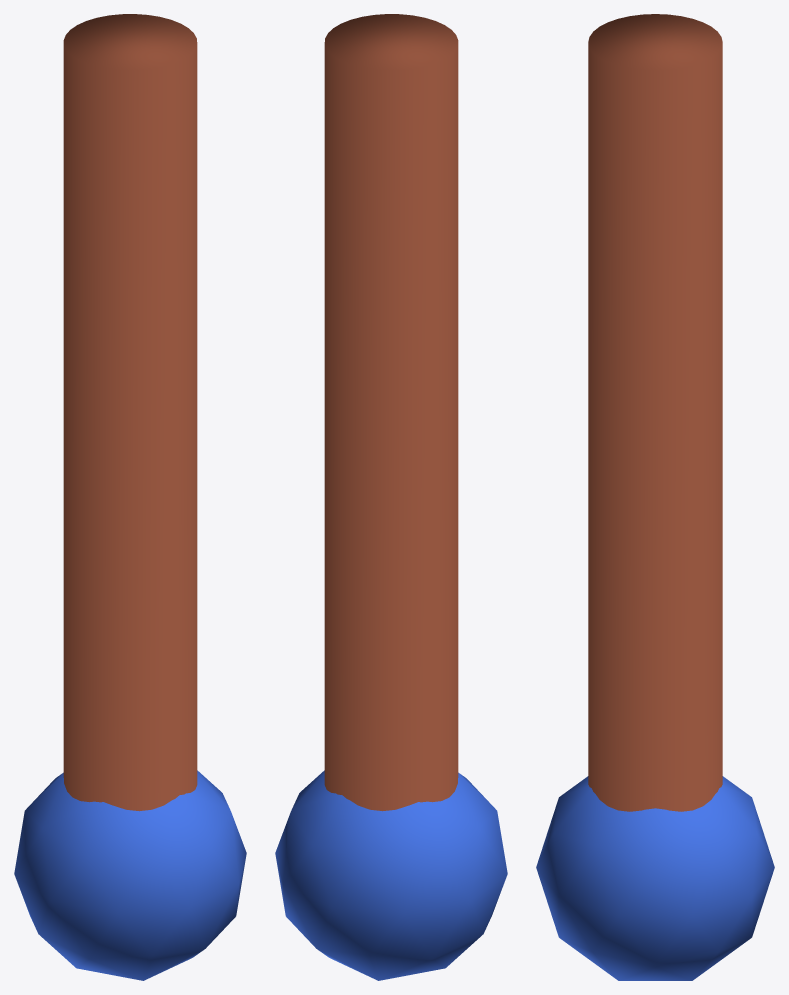
Rendered from mallet.fbx.
3 renders of one model, left to right at view 1: azimuth 30°, elevation 25°; view 2: azimuth 150°, elevation 25°; view 3: azimuth 270°, elevation 25°, orthographic.
Visible parts, largest first — view 1: Icosphere; view 2: Icosphere; view 3: Icosphere.
Part boxes in pixels (bbox=[...]): Icosphere: bbox=[14, 14, 246, 980]; Icosphere: bbox=[275, 14, 507, 980]; Icosphere: bbox=[536, 14, 774, 980].
Bounding box in the file's own units: 10.13 × 45.92 × 10.65.
